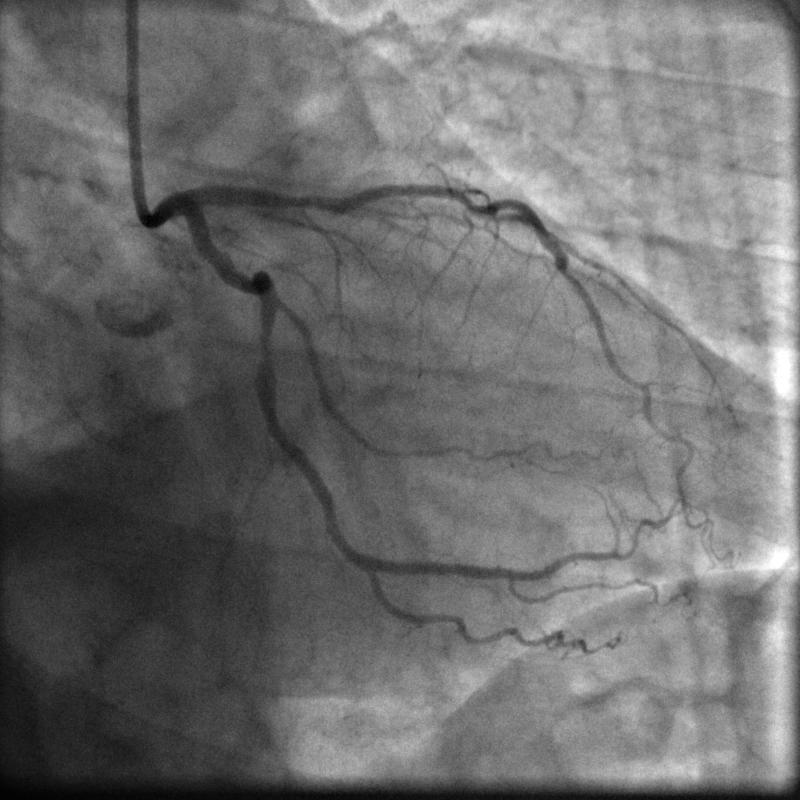Stenosis: (257, 333, 274, 361)
